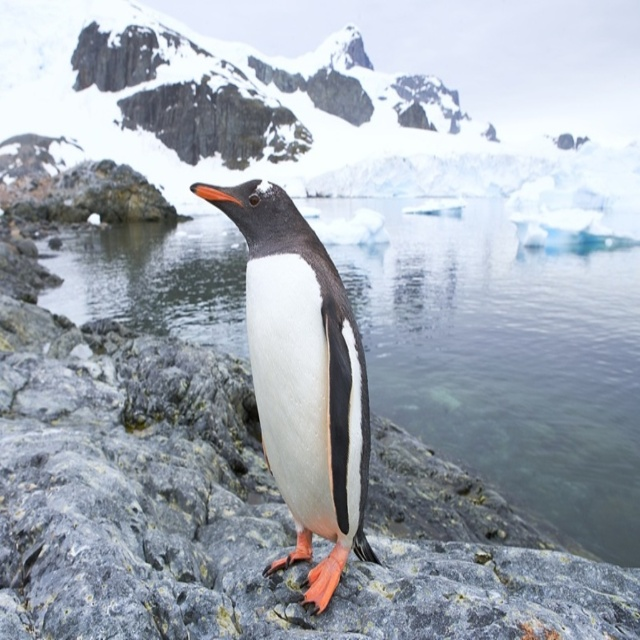Penguin: (190, 173, 385, 615)
